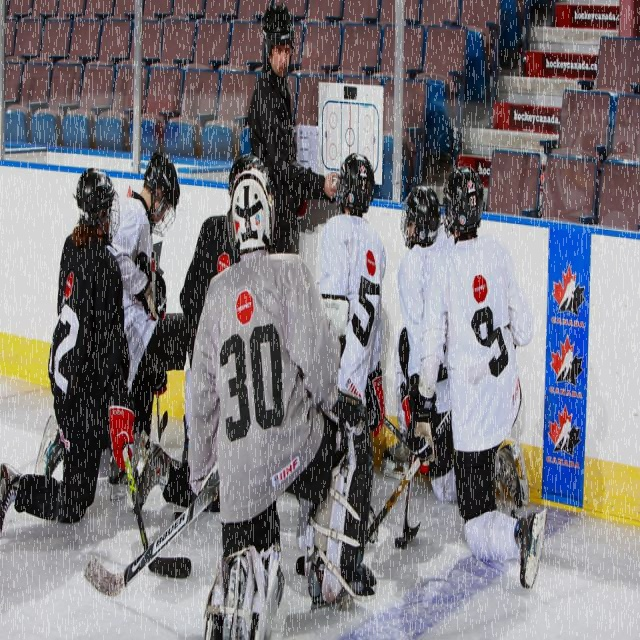pessoa: (187, 167, 351, 639), (406, 158, 550, 590), (33, 148, 199, 511), (0, 167, 155, 539), (132, 152, 271, 514), (380, 183, 530, 508), (314, 152, 386, 592), (246, 2, 340, 258)
